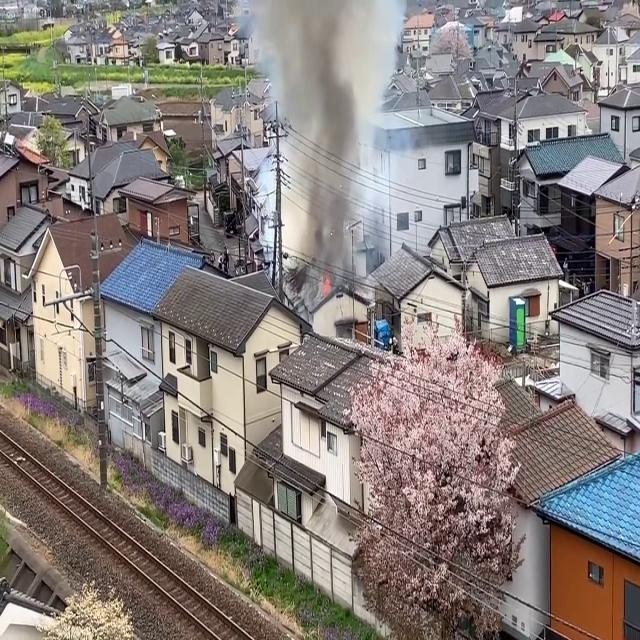Smoke: (278, 0, 396, 282)
